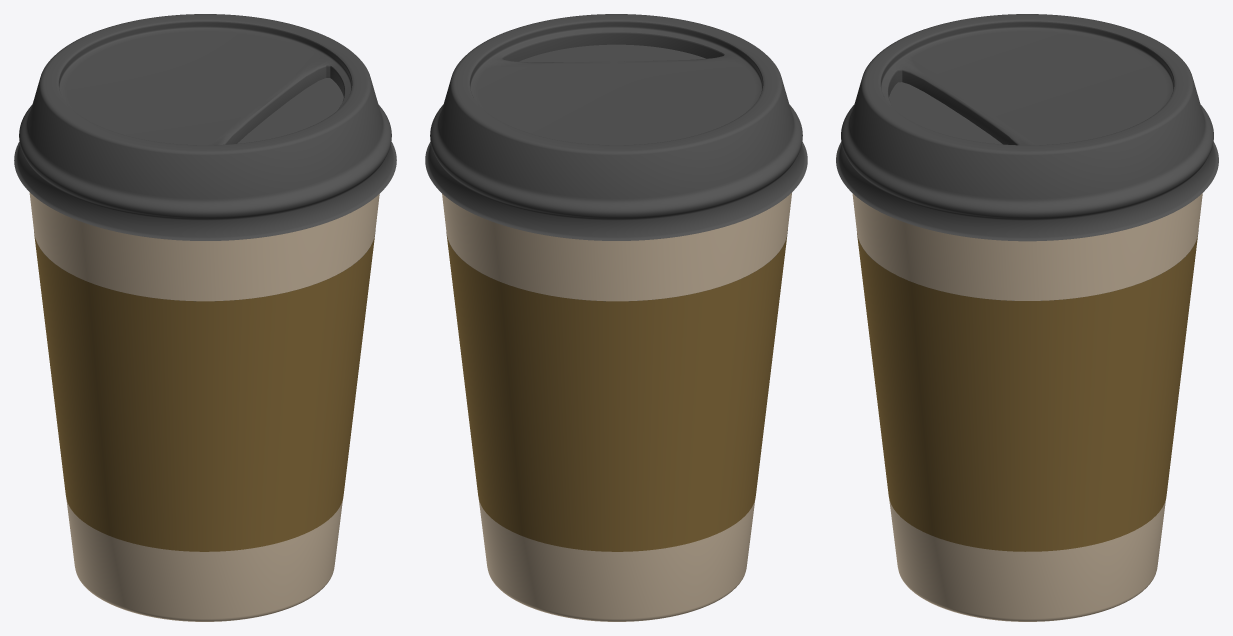
File: coffee_cup.fbx
3 renders of one model, left to right at view 1: azimuth 30°, elevation 25°; view 2: azimuth 150°, elevation 25°; view 3: azimuth 270°, elevation 25°, orthographic.
Visible parts, largest first — view 1: coffee_cup; view 2: coffee_cup; view 3: coffee_cup.
Part boxes in pixels (bbox=[...]): coffee_cup: bbox=[14, 14, 396, 621]; coffee_cup: bbox=[425, 14, 807, 621]; coffee_cup: bbox=[836, 14, 1218, 621].
Size of the model in its own units: 52.17 by 73.24 by 52.17.
